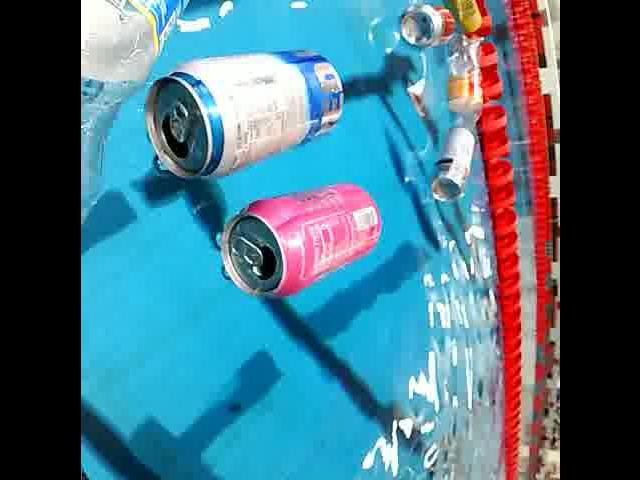Bottle: (80, 0, 213, 238), (442, 33, 484, 138)
Can: (138, 44, 348, 180), (214, 175, 384, 313), (423, 122, 478, 208), (390, 0, 458, 52), (437, 0, 481, 35)
